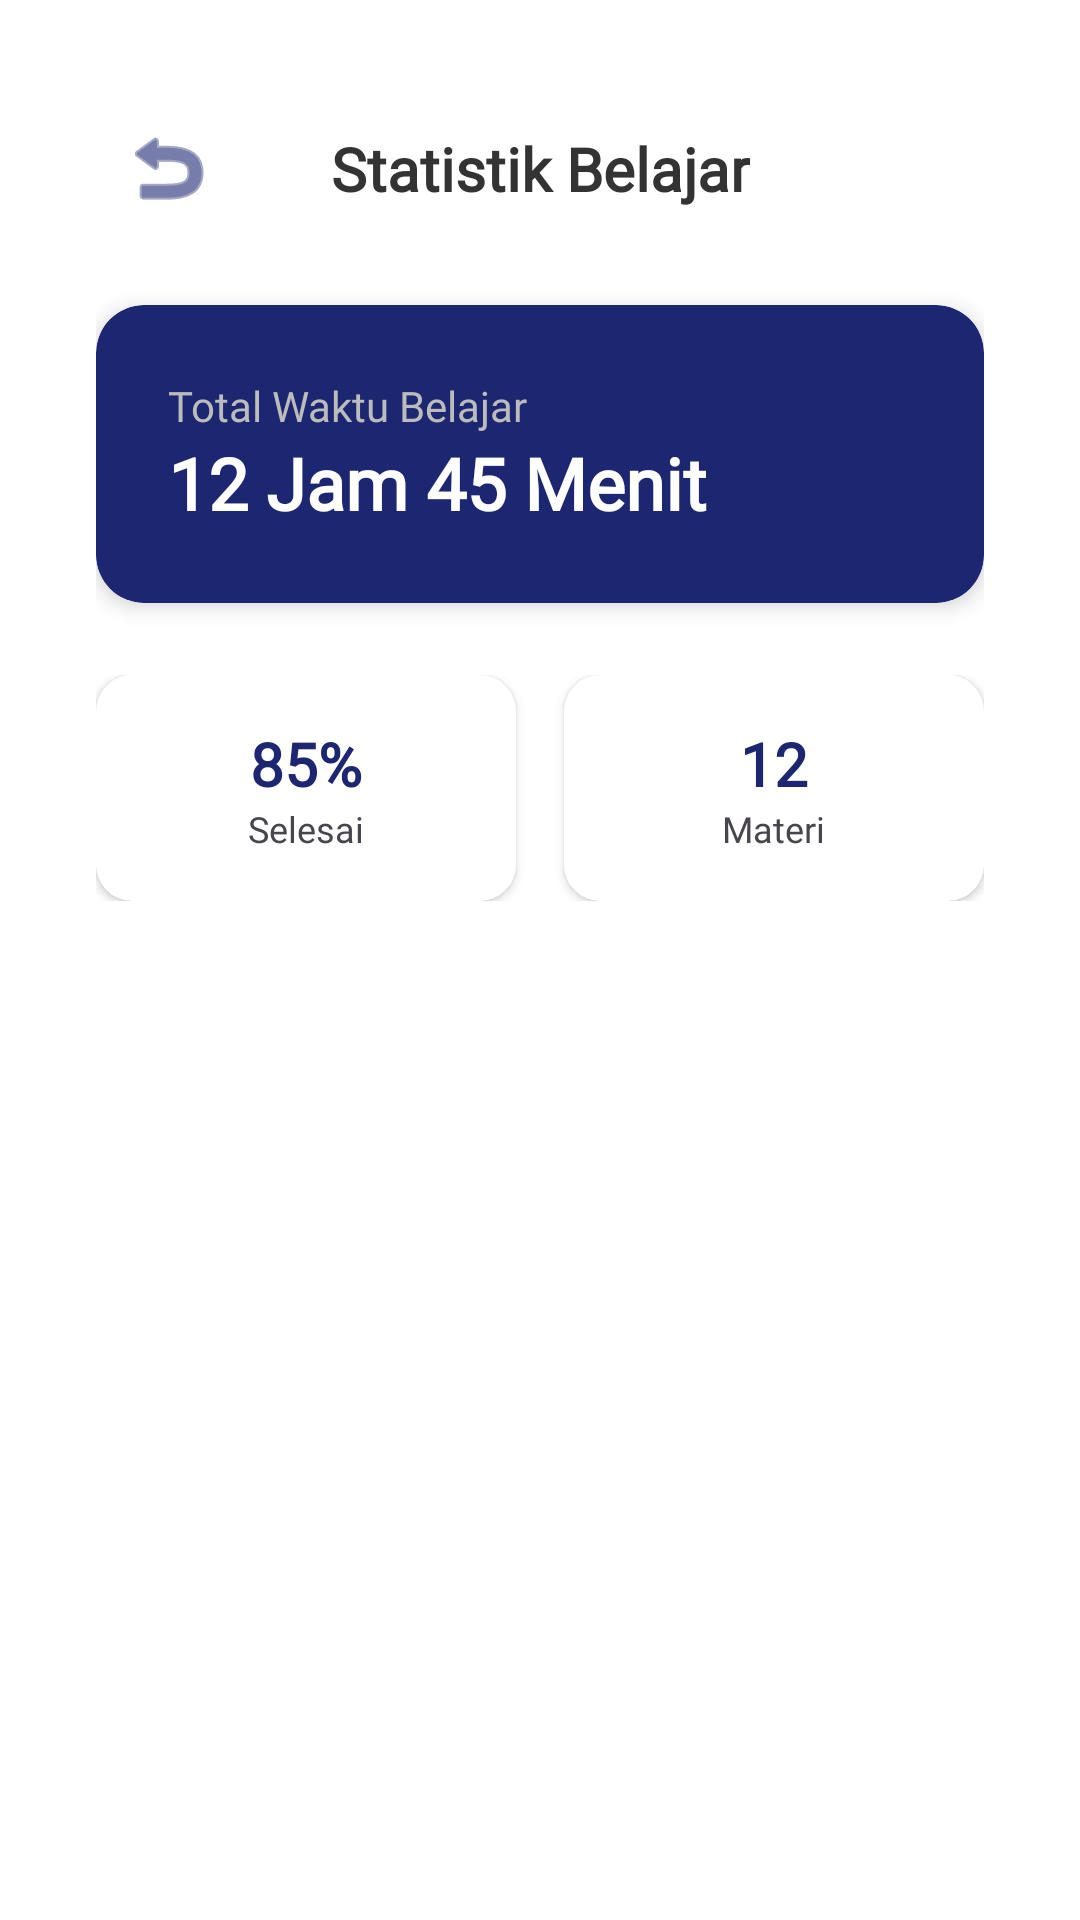

Locate icon controls on the screen. Image size 1080*1920, boxes as (x1, y1, x2, y2).
revert: (135, 137, 204, 200)
